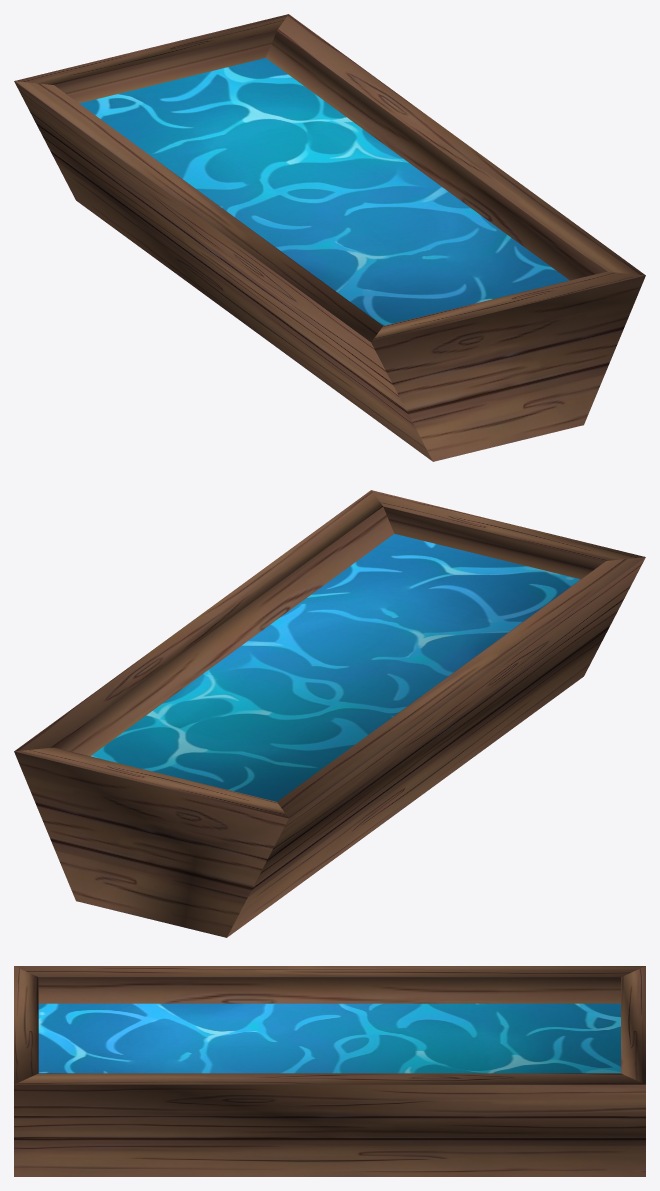
The model's file is AnimalWater.glb.
3 views of the same model, one above another, from view 1: azimuth 30°, elevation 25°; view 2: azimuth 150°, elevation 25°; view 3: azimuth 270°, elevation 25° (orthographic). The views are drawn at different scales.
Visible parts, largest first — view 1: AnimalWater; view 2: AnimalWater; view 3: AnimalWater.
Boxes of the visible parts, x1,y1,x2,y2 form: AnimalWater: (14,14,645,461); AnimalWater: (14,490,645,937); AnimalWater: (14,966,645,1176).
Size of what is drawn, in the model's own units: 1.32 by 0.6196 by 2.98.
1 material, 1 textured.
